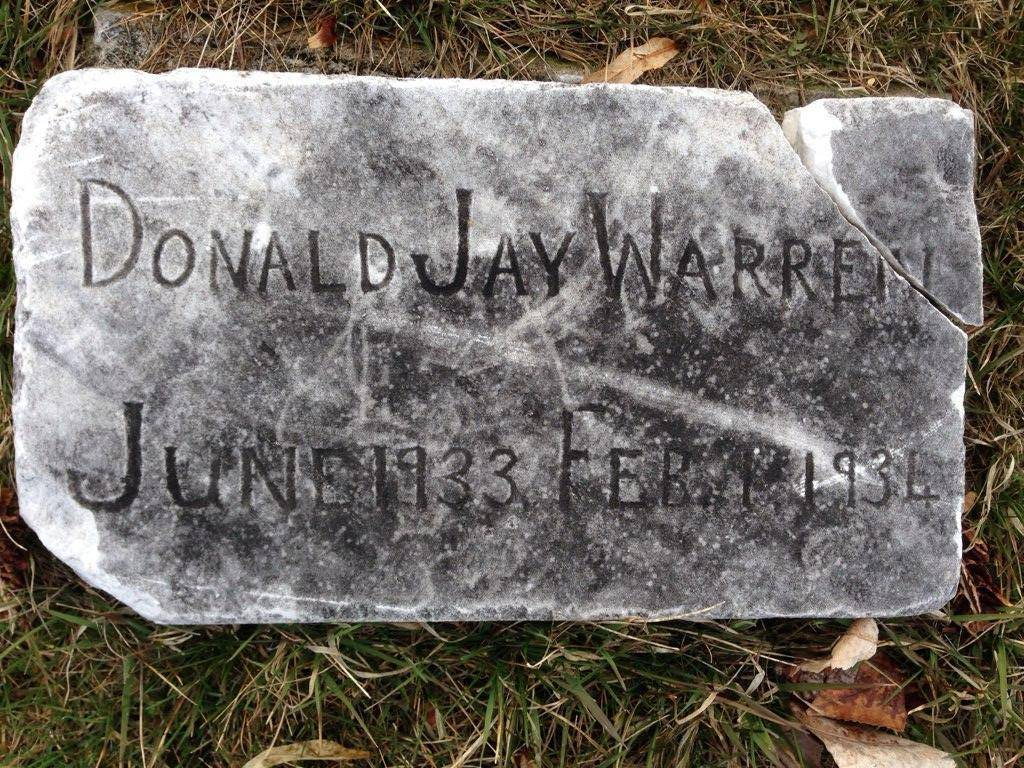flat: (8, 42, 983, 663)
